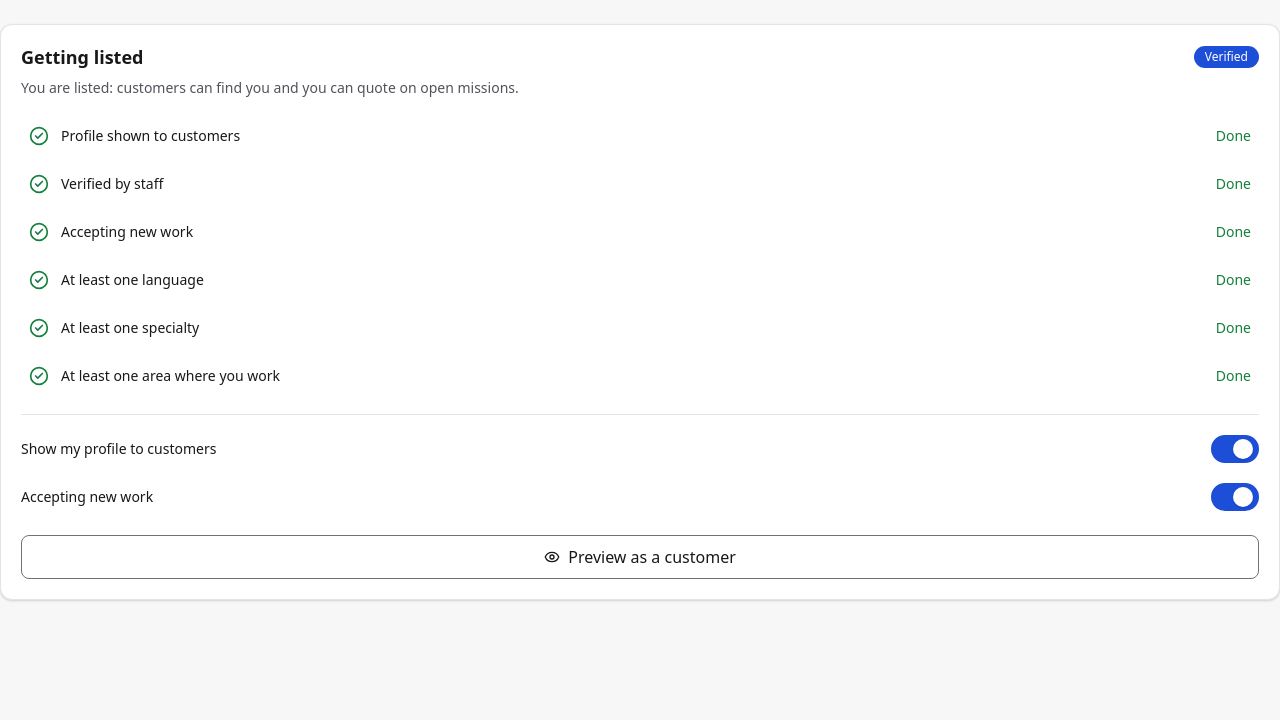
Test case: where the profile stands › previews the agency they work for, under their name, as a customer sees it (T-185)
Step 1. Click the button "Preview as a customer" → (640, 557), box [21,535,1259,579]
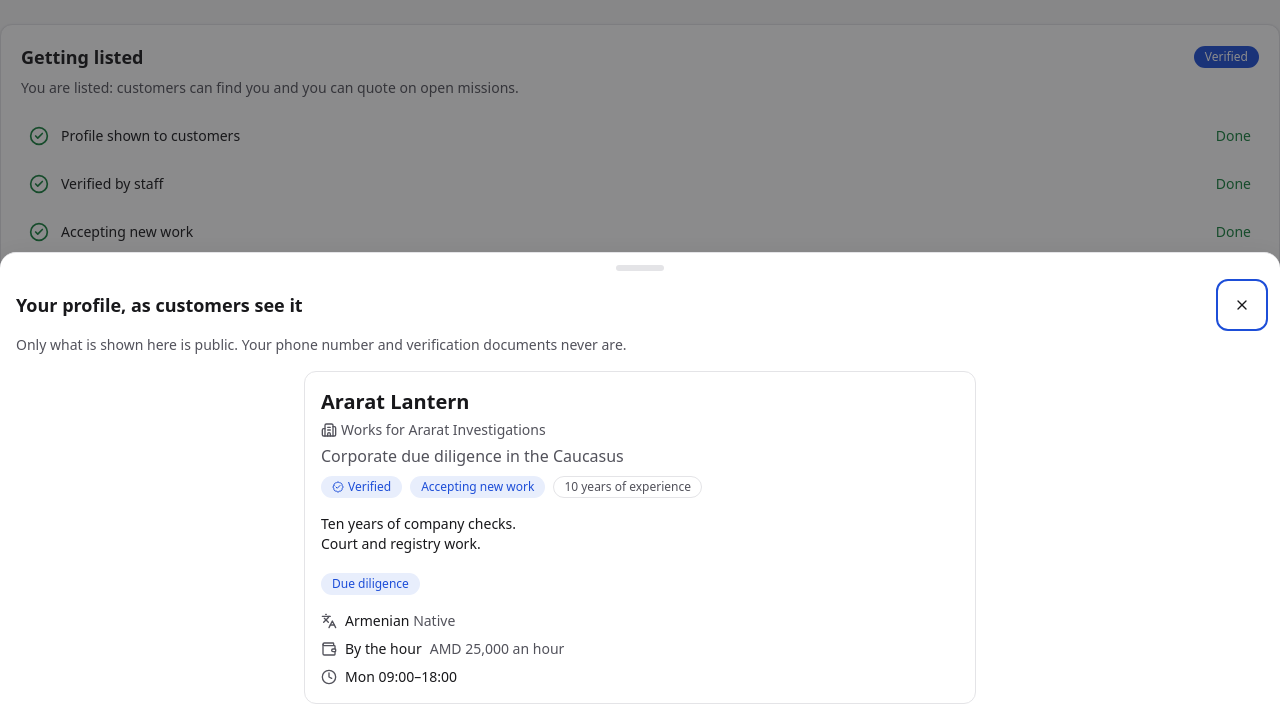
Check: the element showing "Works for Ararat Investigations" is shown, box [321,420,546,439]
